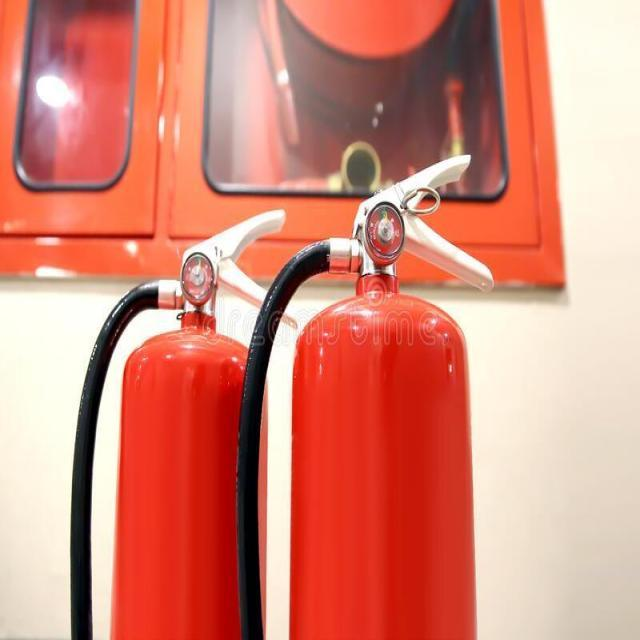fire_extinguisher: (230, 147, 500, 638), (60, 205, 302, 639)
